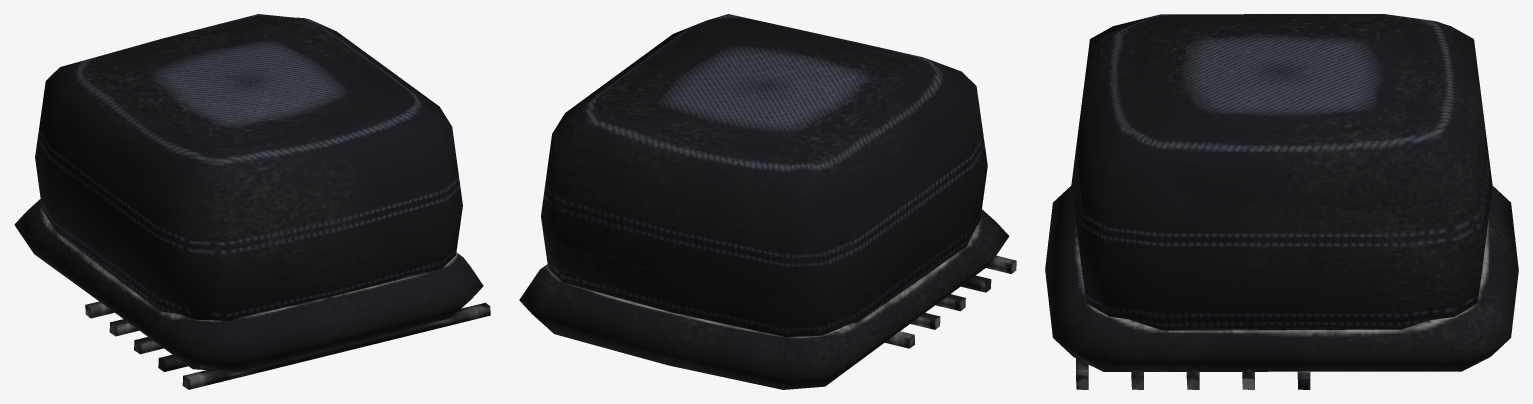
File: MatonImp_BotaIzq.fbx
3 views of the same model, side by side, from view 1: azimuth 30°, elevation 25°; view 2: azimuth 150°, elevation 25°; view 3: azimuth 270°, elevation 25° (orthographic). The views are drawn at different scales.
Visible parts, largest first — view 1: MatonImp_BotaIzq; view 2: MatonImp_BotaIzq; view 3: MatonImp_BotaIzq.
Boxes of the visible parts, x1,y1,x2,y2 form: MatonImp_BotaIzq: (14, 14, 490, 389); MatonImp_BotaIzq: (519, 14, 1016, 389); MatonImp_BotaIzq: (1045, 14, 1518, 389).
Bounding box in the file's own units: 1.31 × 0.8325 × 1.53.
